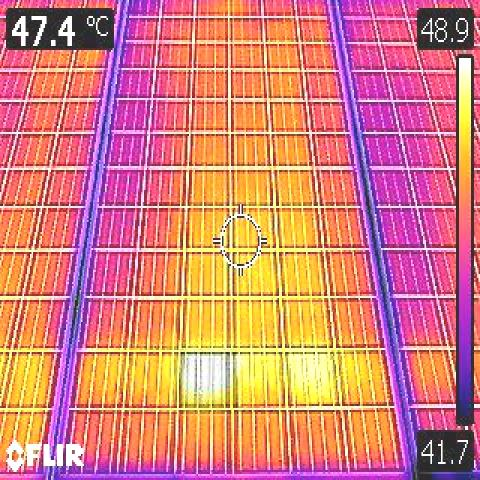fault: (180, 349, 238, 408)
